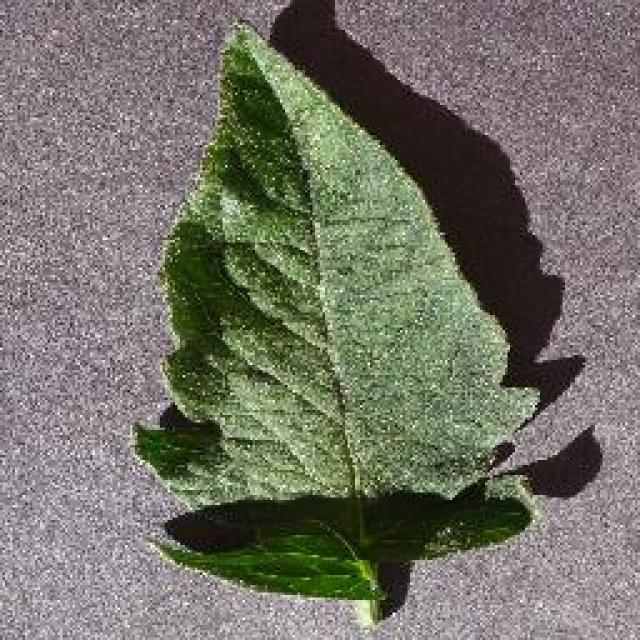Tomato___healthy: (131, 17, 541, 632)
